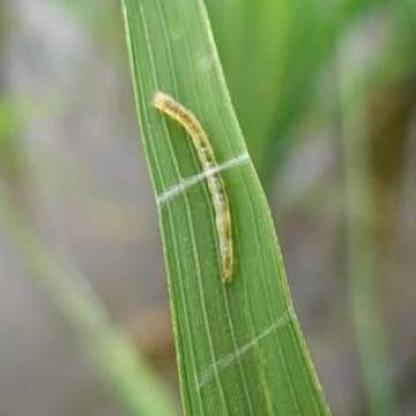leaf-folder: (134, 78, 245, 298)
